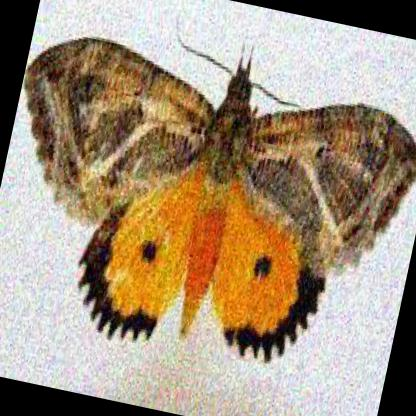fruit sucking moth: (23, 37, 416, 367)
